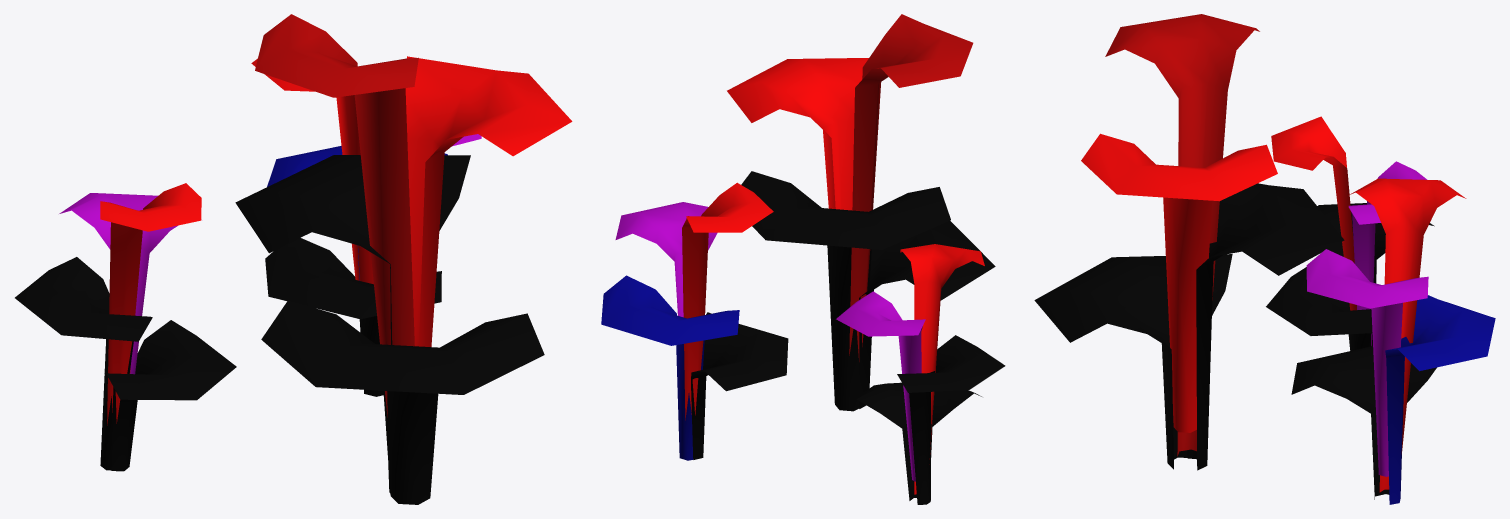
Rendered from flower_06_corolla.glb.
3 renders of one model, left to right at view 1: azimuth 30°, elevation 25°; view 2: azimuth 150°, elevation 25°; view 3: azimuth 270°, elevation 25°, orthographic. The views are drawn at different scales.
Visible parts, largest first — view 1: Flower_Petals, Flower_Leaves, Flower_Stem; view 2: Flower_Petals, Flower_Leaves, Flower_Stem; view 3: Flower_Petals, Flower_Leaves, Flower_Stem.
Part boxes in pixels (bbox=[...]): Flower_Petals: bbox=[59, 14, 572, 425]; Flower_Leaves: bbox=[15, 146, 544, 504]; Flower_Stem: bbox=[235, 155, 470, 492]; Flower_Petals: bbox=[615, 14, 984, 494]; Flower_Leaves: bbox=[601, 221, 1005, 504]; Flower_Stem: bbox=[741, 171, 950, 411]; Flower_Petals: bbox=[1081, 14, 1466, 492]; Flower_Leaves: bbox=[1034, 203, 1495, 504]; Flower_Stem: bbox=[1187, 183, 1344, 470].
Size of the model in its own units: 1.4 by 1.39 by 1.43.
